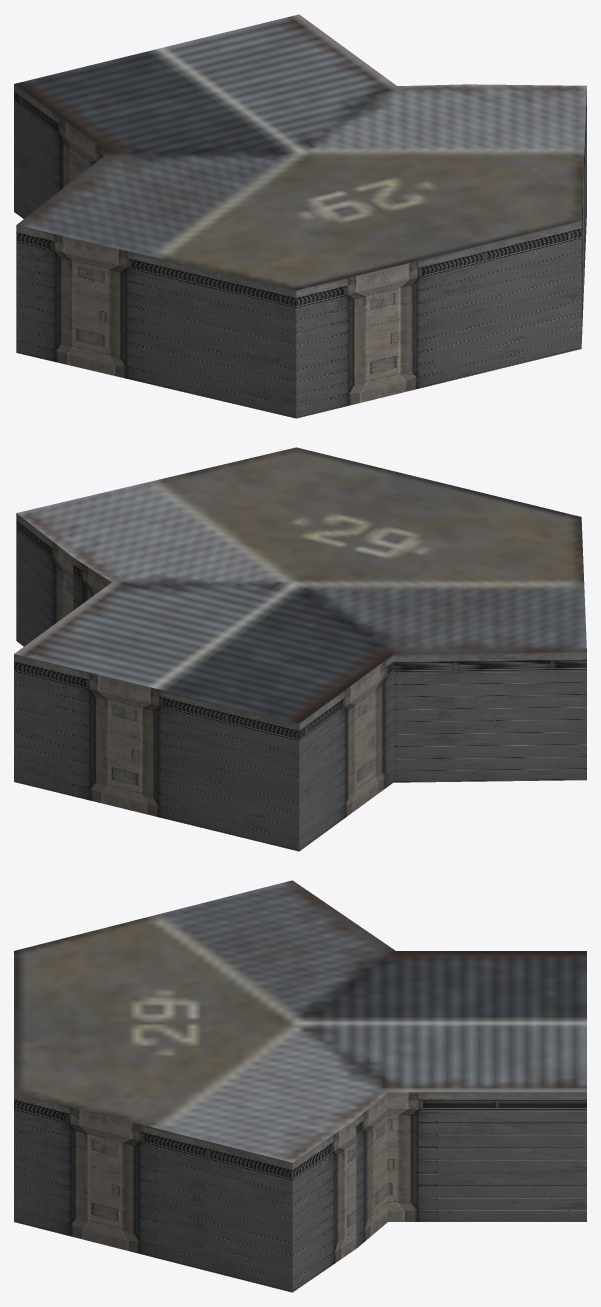
The model's file is hangar_light_29.glb.
3 renders of one model, top to bottom at view 1: azimuth 30°, elevation 25°; view 2: azimuth 150°, elevation 25°; view 3: azimuth 270°, elevation 25°, orthographic.
Parts seen in each view (by area): view 1: buildings/saxarba/hangar_light/hangar_light_29; view 2: buildings/saxarba/hangar_light/hangar_light_29; view 3: buildings/saxarba/hangar_light/hangar_light_29.
Part boxes in pixels (x1,y1,x2,y2): buildings/saxarba/hangar_light/hangar_light_29: (14, 14, 586, 418); buildings/saxarba/hangar_light/hangar_light_29: (14, 447, 586, 851); buildings/saxarba/hangar_light/hangar_light_29: (14, 880, 586, 1292).
Size of the model in its own units: 84 by 18 by 72.
